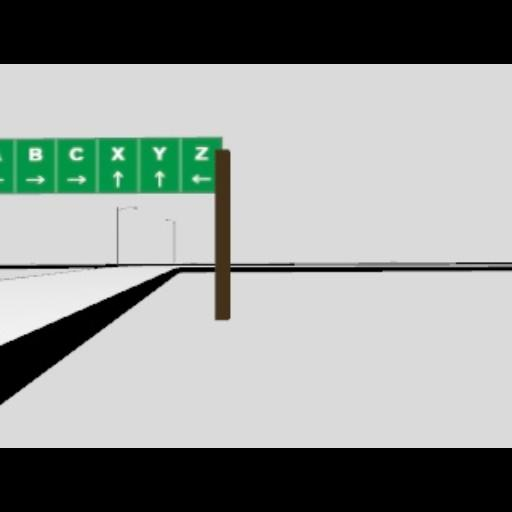B: (28, 146, 44, 164)
C: (67, 144, 85, 160)
Left: (190, 172, 212, 184)
Right: (66, 174, 88, 184), (24, 174, 46, 184)
Straight: (112, 169, 124, 187), (154, 169, 164, 187)
X: (111, 144, 125, 160)
Y: (150, 144, 166, 160)
Z: (194, 146, 210, 160)
